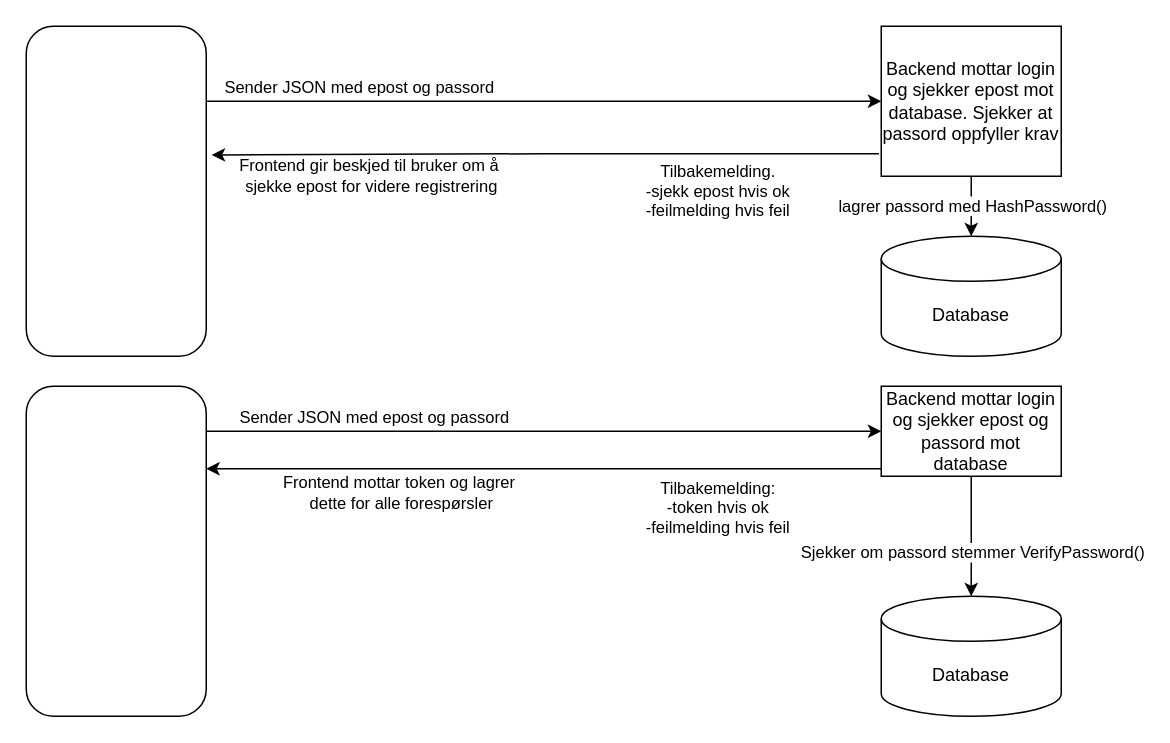
Some shapes in this 1170 by 743 pixel diagram are drawn without their labels. Each missing label, with the centre of its shape:
"Logg inn bilde" goes at pixel 115 550.
"Side for registrer ny bruker" goes at pixel 115 190.
